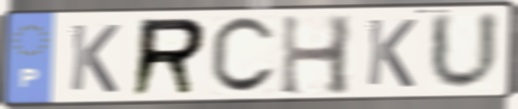C: (207, 14, 279, 97)
H: (277, 13, 356, 98)
K: (66, 21, 123, 95), (363, 16, 420, 90)
R: (127, 15, 210, 100)
U: (427, 10, 503, 94)
